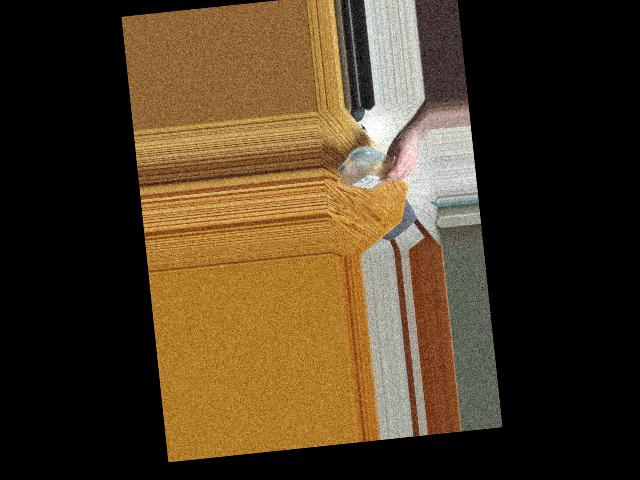cheese: (339, 147, 406, 190)
